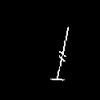treble_crochet: (52, 27, 68, 80)
